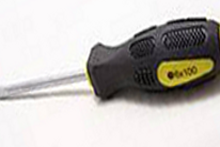screwdriver: (1, 17, 220, 103)
